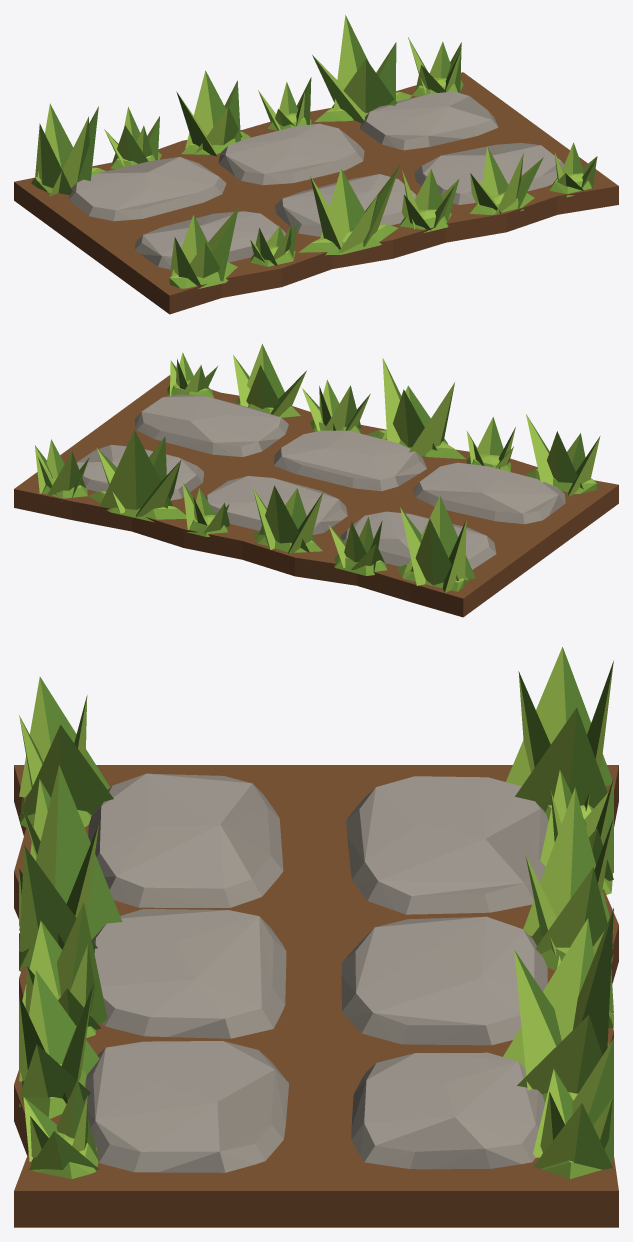
The model's file is FMS_Path_Stone_Straight.fbx.
The picture shows the model from 3 angles, top to bottom: view 1: azimuth 30°, elevation 25°; view 2: azimuth 150°, elevation 25°; view 3: azimuth 270°, elevation 25°; orthographic projection. The views are drawn at different scales.
Visible parts, largest first — view 1: FMS_Path_Stone_Straight; view 2: FMS_Path_Stone_Straight; view 3: FMS_Path_Stone_Straight.
Part boxes in pixels (x1,y1,x2,y2): FMS_Path_Stone_Straight: (14, 15, 618, 314); FMS_Path_Stone_Straight: (14, 344, 618, 617); FMS_Path_Stone_Straight: (14, 647, 618, 1227).
Size of the model in its own units: 2 by 0.4532 by 1.2.
